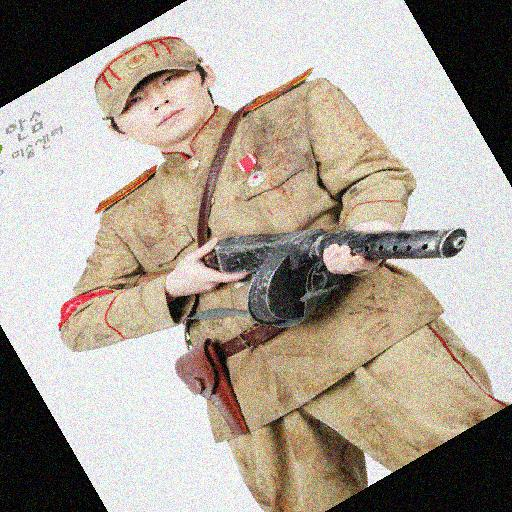north army: (82, 1, 473, 453)
